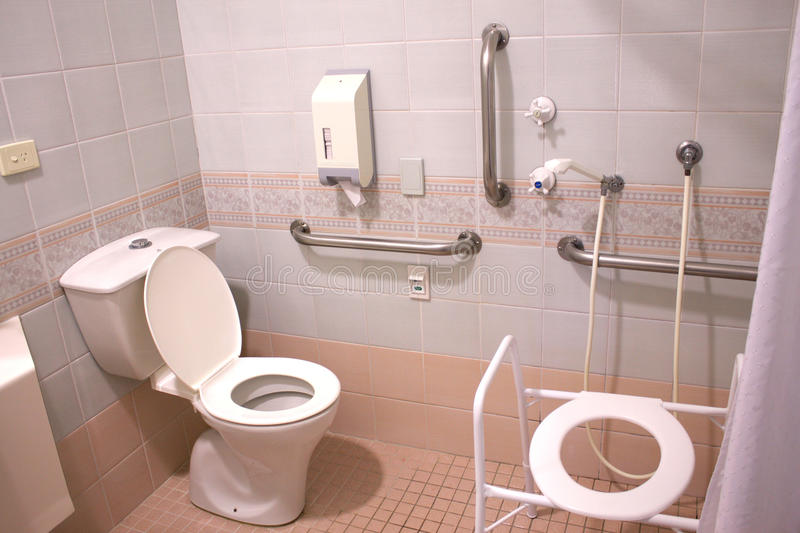curtain: (696, 1, 800, 532)
dispenser: (306, 65, 381, 212)
light_switch: (1, 145, 24, 177)
restroom_assist_bar: (557, 234, 755, 282), (290, 219, 482, 257), (479, 17, 510, 209)
toilet: (146, 250, 341, 521)
toilet_handle: (128, 239, 154, 251)
